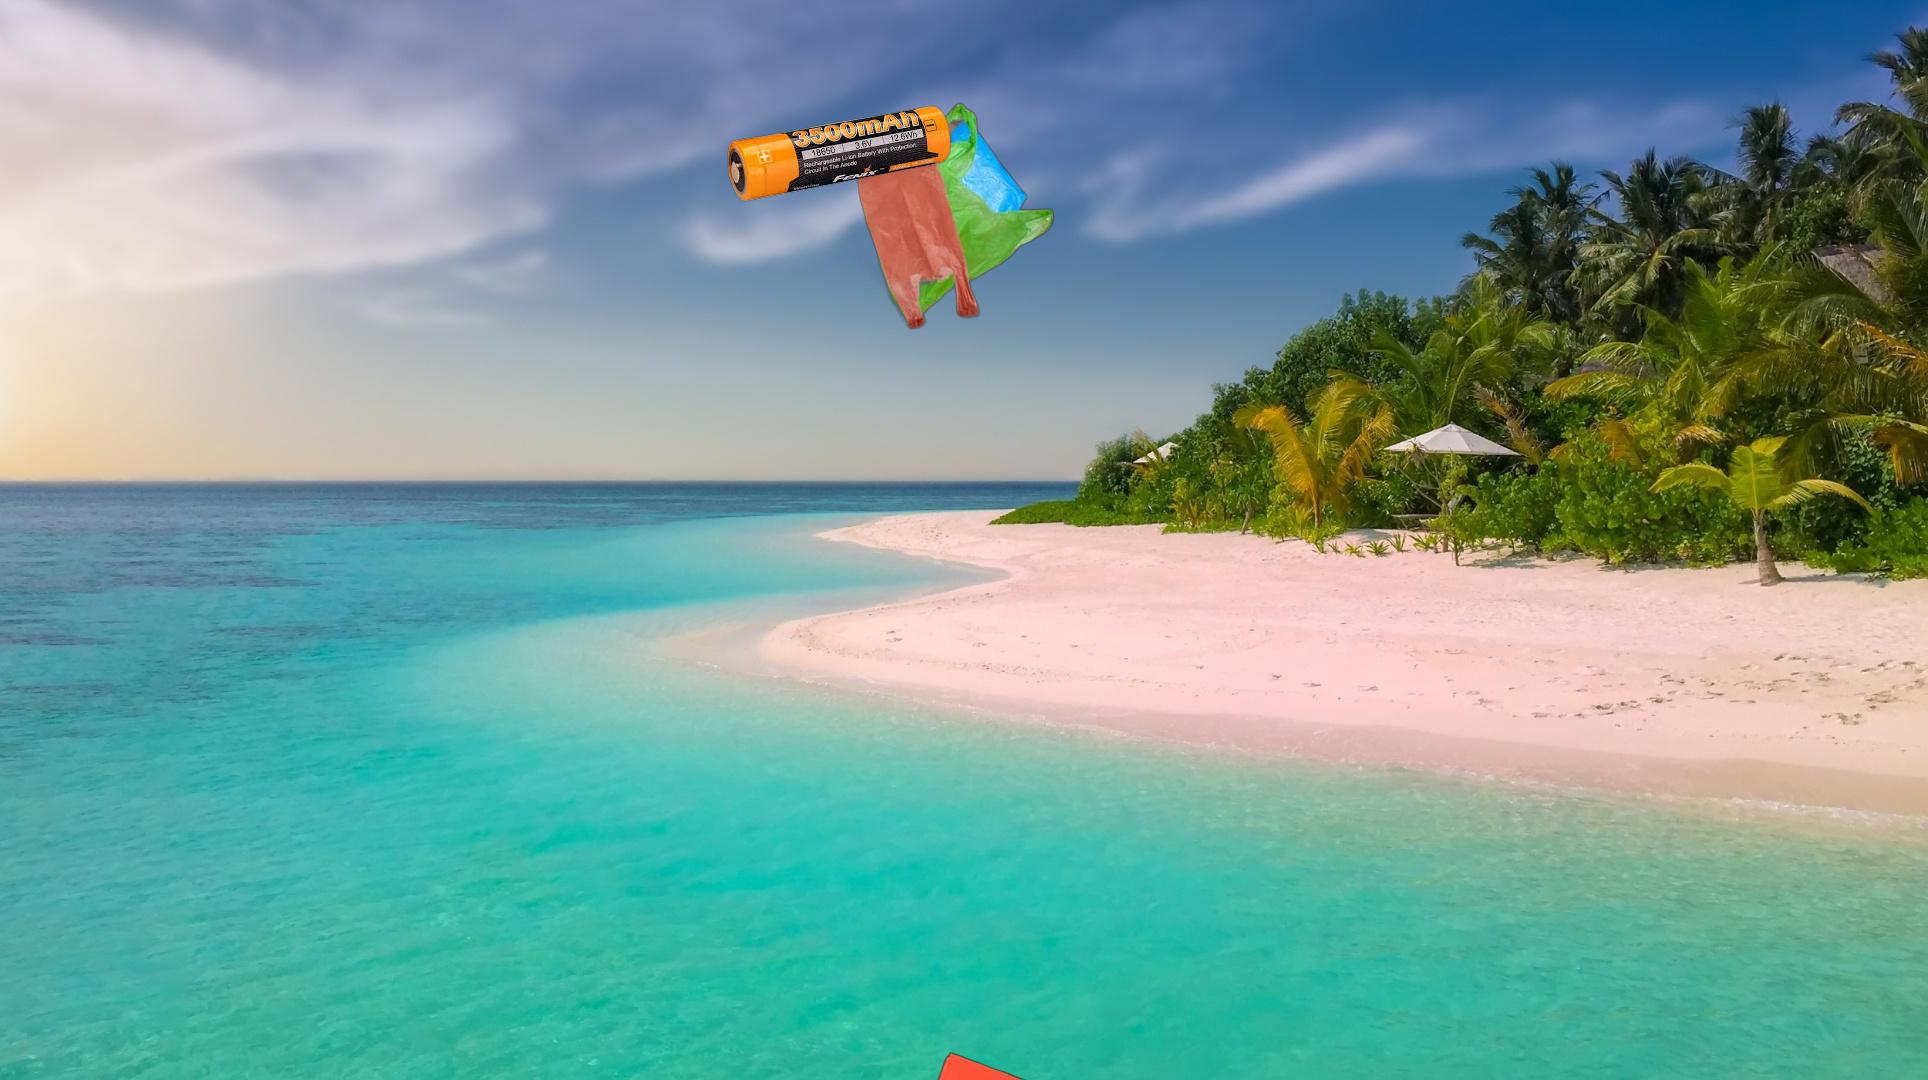battery: (727, 103, 952, 204)
paper-bag: (883, 1050, 1096, 1080)
plastic-bag: (832, 101, 1055, 332)
